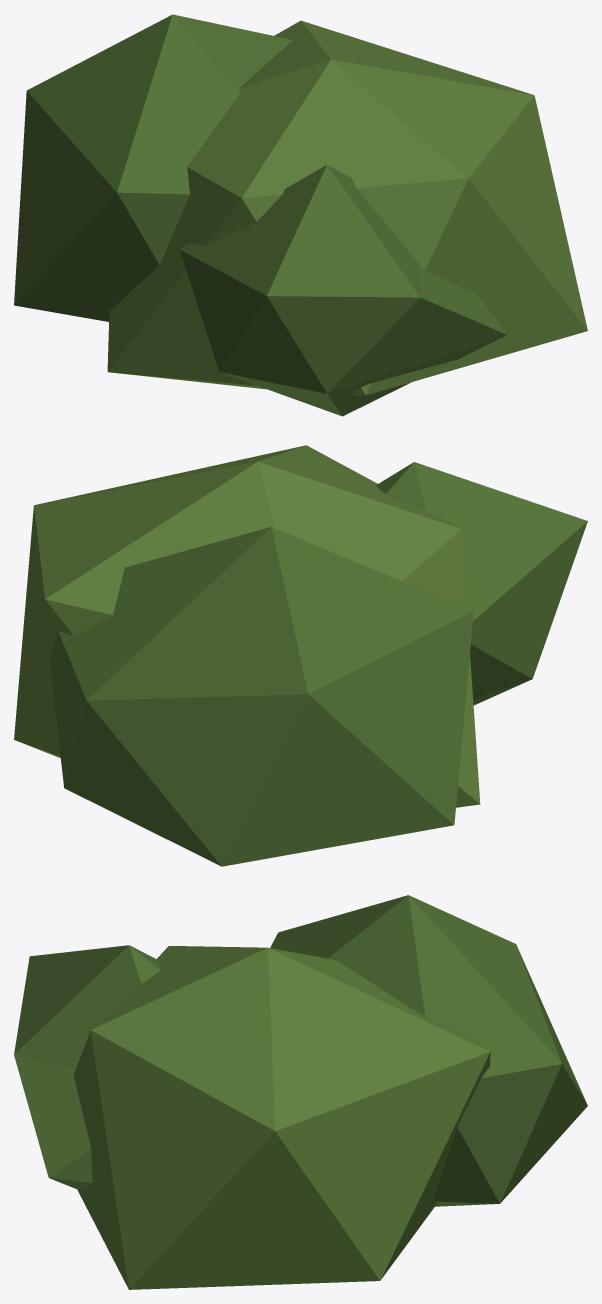
The model's file is bush.glb.
The picture shows the model from 3 angles, top to bottom: view 1: azimuth 30°, elevation 25°; view 2: azimuth 150°, elevation 25°; view 3: azimuth 270°, elevation 25°; orthographic projection. The views are drawn at different scales.
Visible parts, largest first — view 1: bush; view 2: bush; view 3: bush.
Boxes of the visible parts, x1,y1,x2,y2 form: bush: (14, 14, 587, 416); bush: (14, 445, 587, 866); bush: (14, 895, 587, 1289).
Size of the model in its own units: 0.4925 by 0.363 by 0.553.
